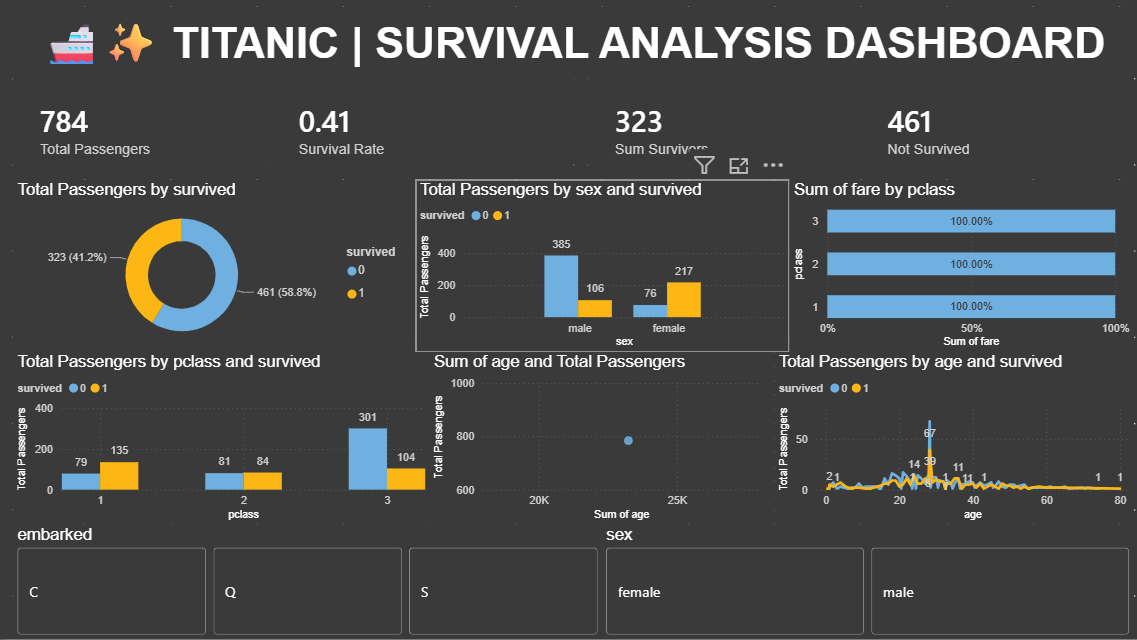

The page's visual inventory and layout, read from the dashboard file:
{"tool":"powerbi","page":{"name":"Page 1","canvas":[1280,720],"ordinal":0},"visuals":[{"type":"cardVisual","fields":{"Data":["titanic_cleaned.Sum Survivors"]},"box":[656,96,304,112],"z":0},{"type":"cardVisual","fields":{"Data":["titanic_cleaned.Survival Rate"]},"box":[304,96,336,112],"z":1},{"type":"cardVisual","fields":{"Data":["titanic_cleaned.Total Passengers"]},"box":[16,96,288,112],"z":2},{"type":"cardVisual","fields":{"Data":["titanic_cleaned.Not Survived"]},"box":[960,96,304,112],"z":3},{"type":"donutChart","fields":{"Y":["titanic_cleaned.Total Passengers"],"Category":["titanic_cleaned.survived"]},"box":[16,208,448,192],"z":4},{"type":"clusteredColumnChart","fields":{"Category":["titanic_cleaned.sex"],"Y":["titanic_cleaned.Total Passengers"],"Series":["titanic_cleaned.survived"]},"box":[464,208,416,192],"z":5},{"type":"clusteredColumnChart","fields":{"Category":["titanic_cleaned.pclass"],"Y":["titanic_cleaned.Total Passengers"],"Series":["titanic_cleaned.survived"]},"box":[16,400,464,192],"z":6},{"type":"hundredPercentStackedBarChart","fields":{"Category":["titanic_cleaned.pclass"],"Y":["Sum(titanic_cleaned.fare)"]},"box":[880,208,384,192],"z":7},{"type":"scatterChart","fields":{"X":["Sum(titanic_cleaned.age)"],"Y":["titanic_cleaned.Total Passengers"]},"box":[480,400,384,192],"z":8},{"type":"lineChart","fields":{"Category":["titanic_cleaned.age"],"Y":["titanic_cleaned.Total Passengers"],"Series":["titanic_cleaned.survived"]},"box":[864,400,400,192],"z":9},{"type":"advancedSlicerVisual","fields":{"Values":["titanic_cleaned.sex"]},"box":[672,592,592,128],"z":10},{"type":"advancedSlicerVisual","fields":{"Values":["titanic_cleaned.embarked"]},"box":[16,592,656,128],"z":11},{"type":"textbox","box":[16,16,1248,80],"z":12}]}

Visuals, with their boxes in screenshot pixels (x1, y1, x2, y2), scaled from the page's 1280x720 canvas onto the 1137x640 screenshot:
cardVisual - titanic_cleaned.Sum Survivors: box(583, 85, 853, 185)
cardVisual - titanic_cleaned.Survival Rate: box(270, 85, 568, 185)
cardVisual - titanic_cleaned.Total Passengers: box(14, 85, 270, 185)
cardVisual - titanic_cleaned.Not Survived: box(853, 85, 1123, 185)
donutChart - titanic_cleaned.Total Passengers x titanic_cleaned.survived: box(14, 185, 412, 356)
clusteredColumnChart - titanic_cleaned.sex x titanic_cleaned.Total Passengers: box(412, 185, 782, 356)
clusteredColumnChart - titanic_cleaned.pclass x titanic_cleaned.Total Passengers: box(14, 356, 426, 526)
hundredPercentStackedBarChart - titanic_cleaned.pclass x Sum(titanic_cleaned.fare): box(782, 185, 1123, 356)
scatterChart - Sum(titanic_cleaned.age) x titanic_cleaned.Total Passengers: box(426, 356, 767, 526)
lineChart - titanic_cleaned.age x titanic_cleaned.Total Passengers: box(767, 356, 1123, 526)
advancedSlicerVisual - titanic_cleaned.sex: box(597, 526, 1123, 639)
advancedSlicerVisual - titanic_cleaned.embarked: box(14, 526, 597, 639)
textbox: box(14, 14, 1123, 85)
